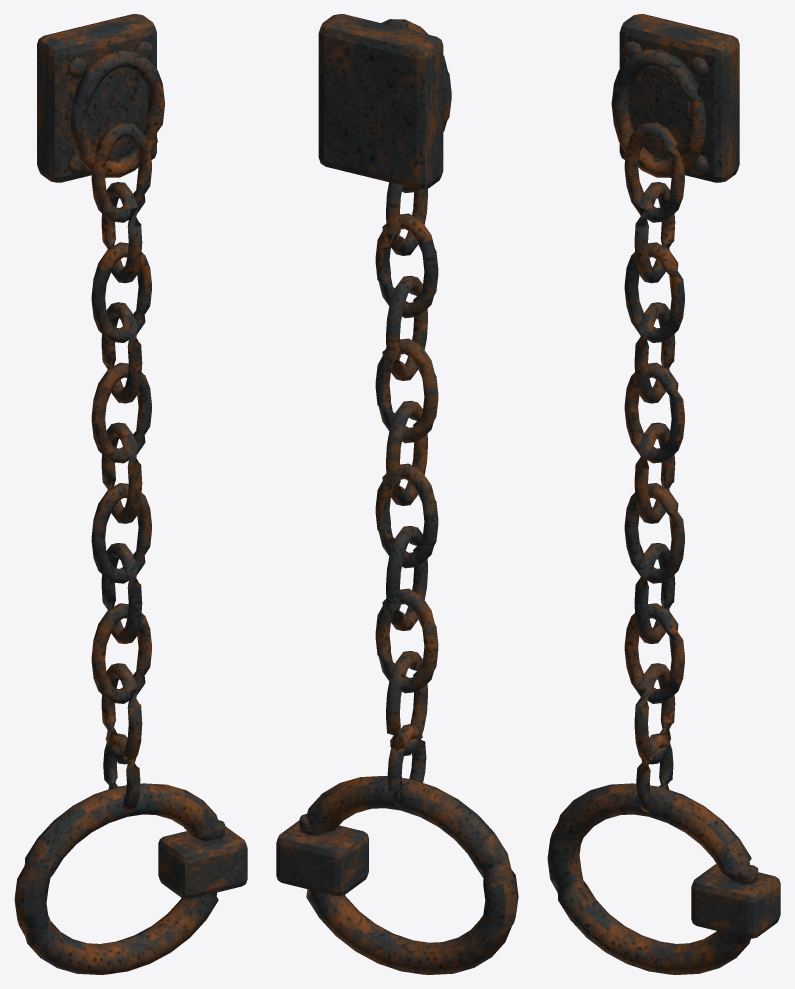
File: chain-shackle.glb
3 views of the same model, side by side, from view 1: azimuth 30°, elevation 25°; view 2: azimuth 150°, elevation 25°; view 3: azimuth 330°, elevation 25° (orthographic). The views are drawn at different scales.
Visible parts, largest first — view 1: chain-shackle; view 2: chain-shackle; view 3: chain-shackle.
Part boxes in pixels (box(x1,y1,x2,y2)): chain-shackle: box(14, 14, 247, 974); chain-shackle: box(276, 14, 518, 974); chain-shackle: box(547, 14, 780, 974).
Bounding box in the file's own units: 0.2145 × 0.861 × 0.0881.
1 material, 1 textured.
